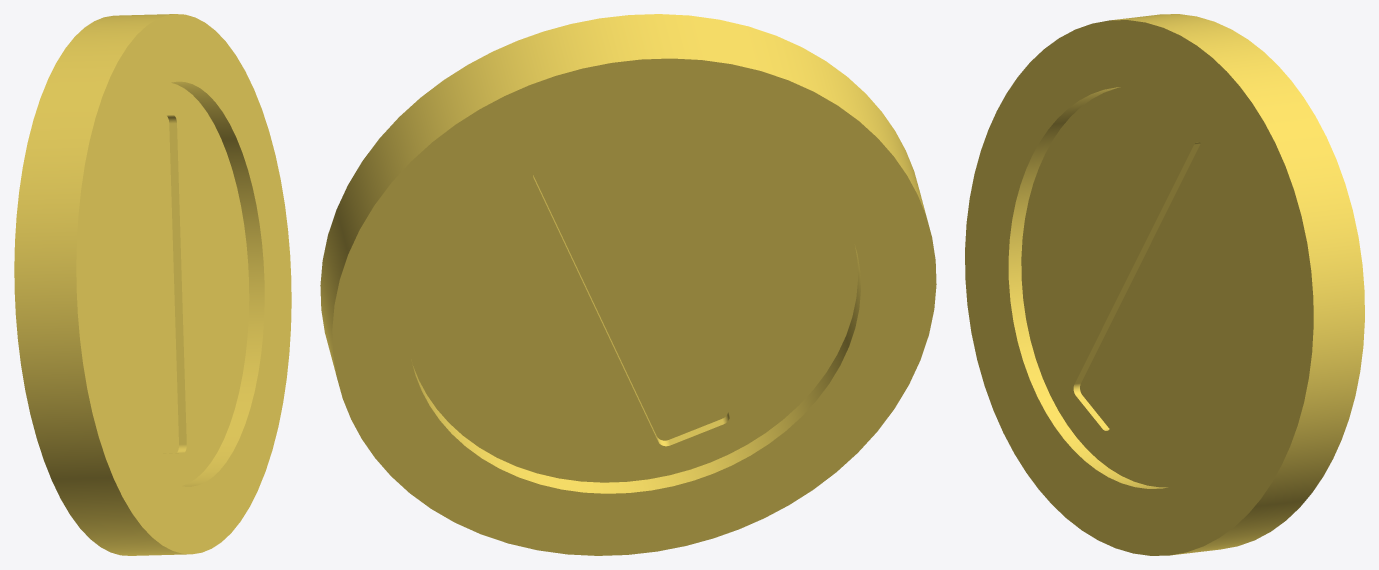
File: coin.glb
The picture shows the model from 3 angles, left to right: view 1: azimuth 30°, elevation 25°; view 2: azimuth 150°, elevation 25°; view 3: azimuth 270°, elevation 25°; orthographic projection. The views are drawn at different scales.
Visible parts, largest first — view 1: Body1; view 2: Body1; view 3: Body1.
Boxes of the visible parts, bbox=[...] form: Body1: bbox=[14, 14, 291, 555]; Body1: bbox=[320, 14, 936, 555]; Body1: bbox=[965, 14, 1364, 555].
Bounding box in the file's own units: 0.2923 × 0.3411 × 0.2519.
